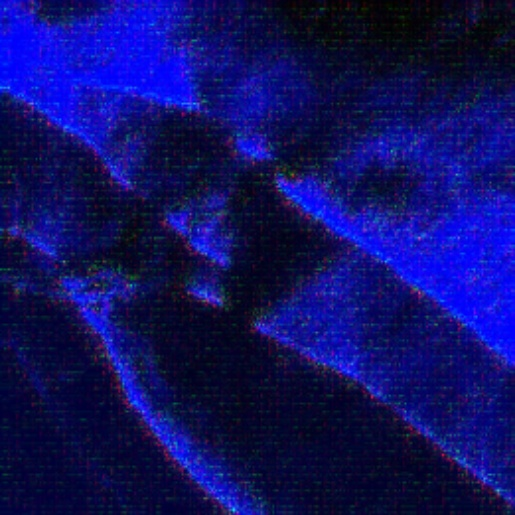rip_current: (87, 31, 258, 321)
